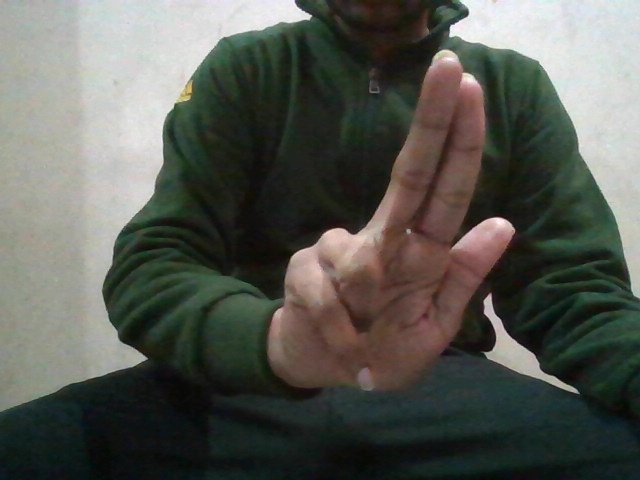K: (279, 42, 520, 395)
